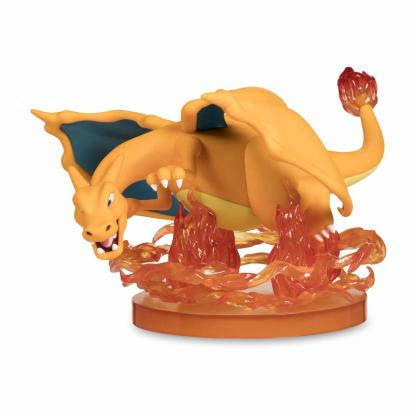Charizard: (58, 73, 393, 284)
